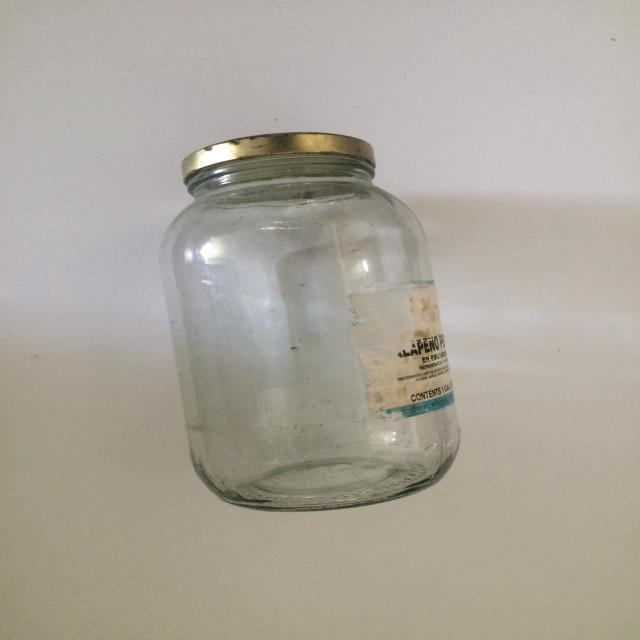glass: (158, 131, 462, 514)
